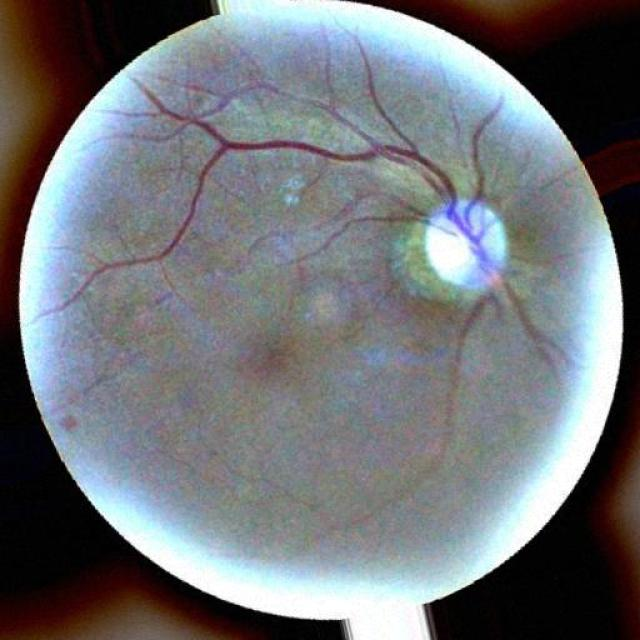Macula: (284, 270, 359, 336)
Nerves: (113, 90, 459, 278), (421, 303, 491, 470), (358, 48, 432, 146), (504, 293, 564, 358), (465, 108, 508, 193)
Optic Disk: (415, 179, 535, 303)
